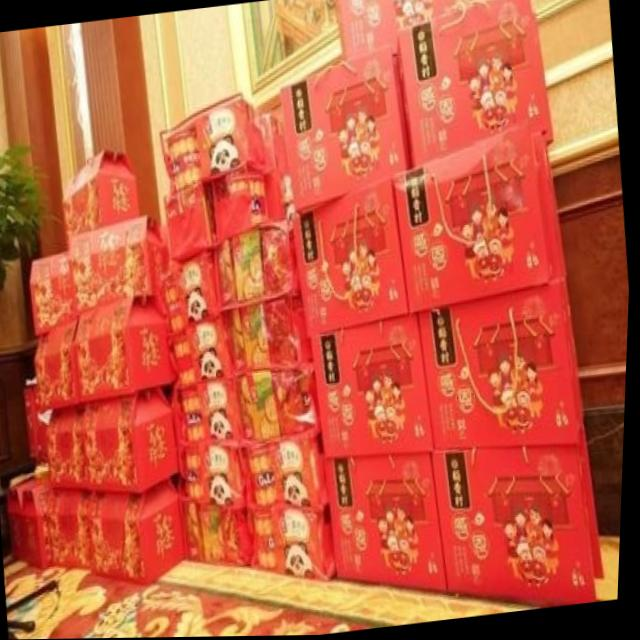box: (394, 122, 568, 315), (419, 274, 588, 451), (434, 442, 602, 608), (396, 0, 551, 169), (281, 52, 413, 218), (293, 178, 411, 339), (327, 451, 453, 595), (314, 313, 437, 460), (74, 294, 177, 404), (161, 92, 266, 195), (90, 478, 188, 586), (68, 213, 171, 315), (86, 388, 182, 493), (242, 424, 333, 512), (216, 219, 303, 310), (65, 151, 143, 247), (335, 0, 455, 59), (251, 505, 341, 581), (234, 297, 317, 377), (239, 367, 323, 444), (213, 166, 288, 245), (165, 180, 219, 265), (582, 424, 609, 579), (31, 251, 76, 336), (37, 319, 79, 410), (190, 310, 239, 382), (50, 488, 94, 568), (204, 503, 258, 568), (50, 406, 92, 489), (199, 376, 250, 444), (202, 441, 251, 508), (24, 474, 58, 569), (182, 251, 221, 324), (11, 477, 34, 560), (34, 387, 54, 463), (262, 116, 289, 172), (25, 388, 41, 457)
